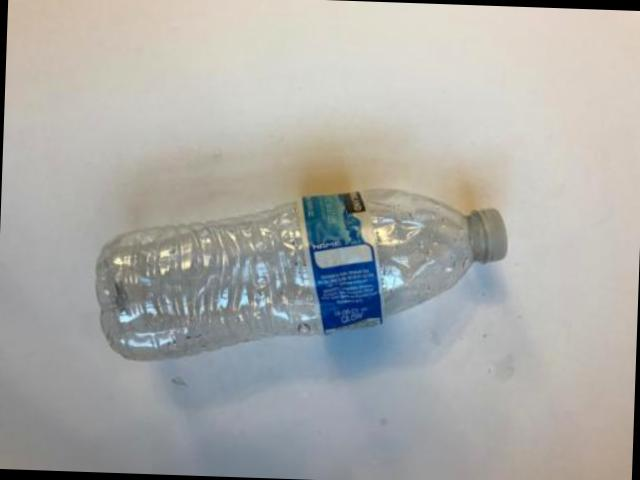plastic: (98, 193, 509, 362)
